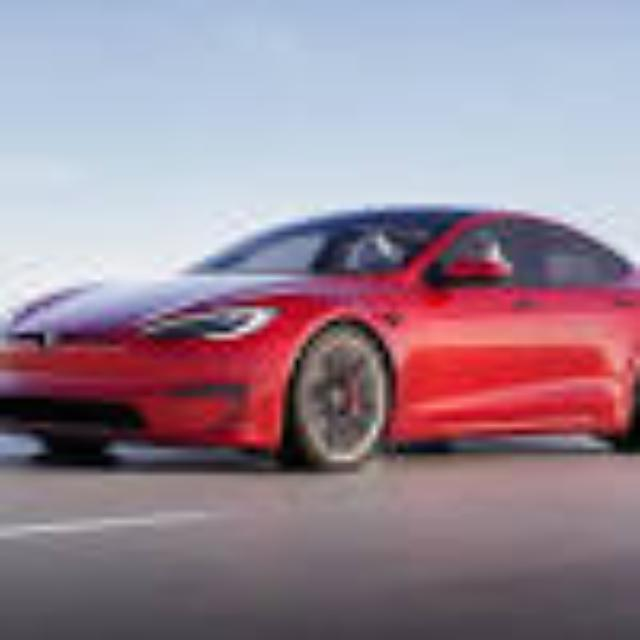tesla: (0, 205, 640, 471)
